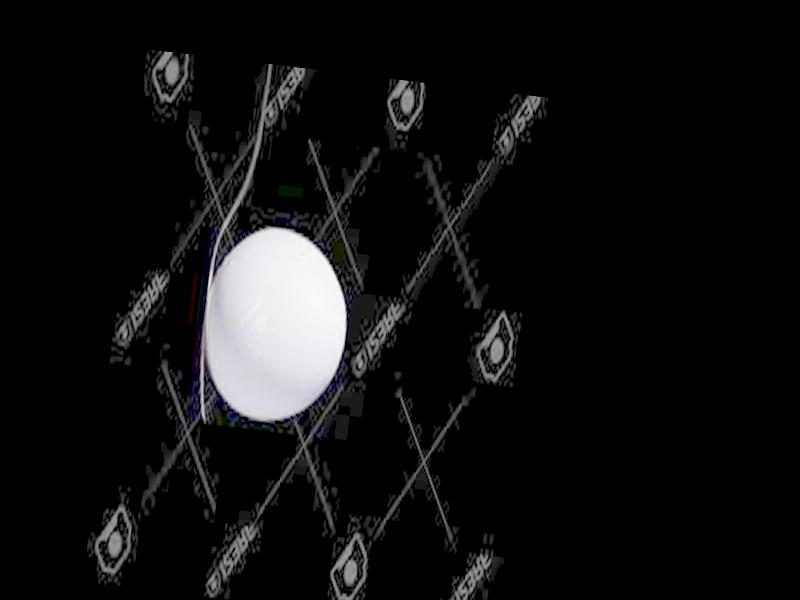Eggs: (194, 220, 355, 428)
